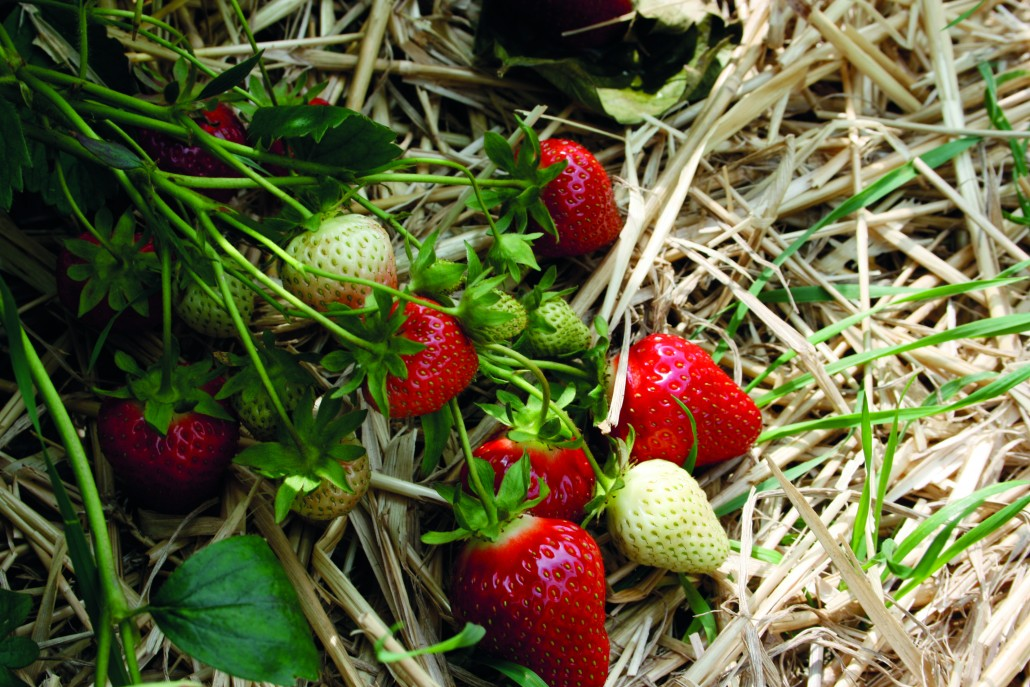ripe_strawberry: (450, 512, 613, 687), (599, 331, 765, 472), (98, 360, 237, 516), (362, 296, 482, 421), (508, 137, 626, 255), (133, 90, 249, 206), (465, 427, 600, 524), (61, 229, 159, 283)
unripe_strawberry: (607, 457, 733, 576), (279, 212, 401, 313), (286, 429, 373, 524), (174, 257, 259, 341), (237, 372, 318, 444), (525, 290, 593, 360), (472, 286, 531, 342)
